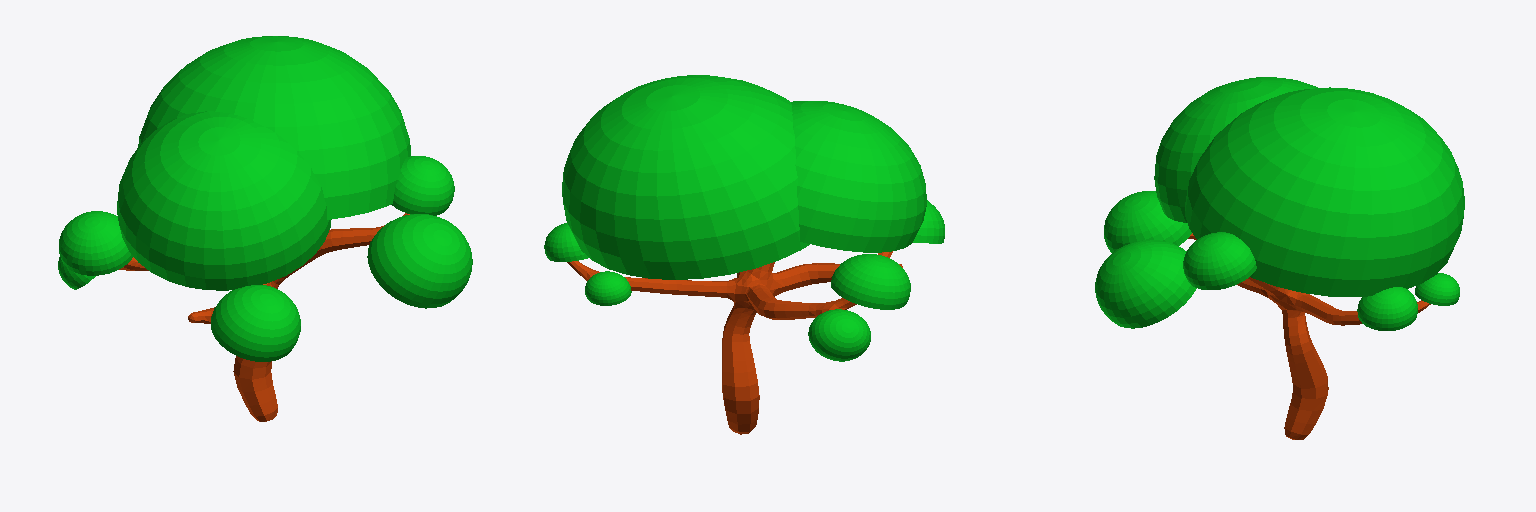
File: cay1.obj
The picture shows the model from 3 angles: view 1: azimuth 30°, elevation 25°; view 2: azimuth 150°, elevation 25°; view 3: azimuth 270°, elevation 25°; orthographic projection.
Visible parts, largest first — view 1: Tree; view 2: Tree; view 3: Tree.
Boxes of the visible parts, <box> form: Tree: <box>58,36,472,421</box>; Tree: <box>544,75,944,434</box>; Tree: <box>1095,77,1464,439</box>.
Size of the model in its own units: 23.33 by 23.59 by 22.65.